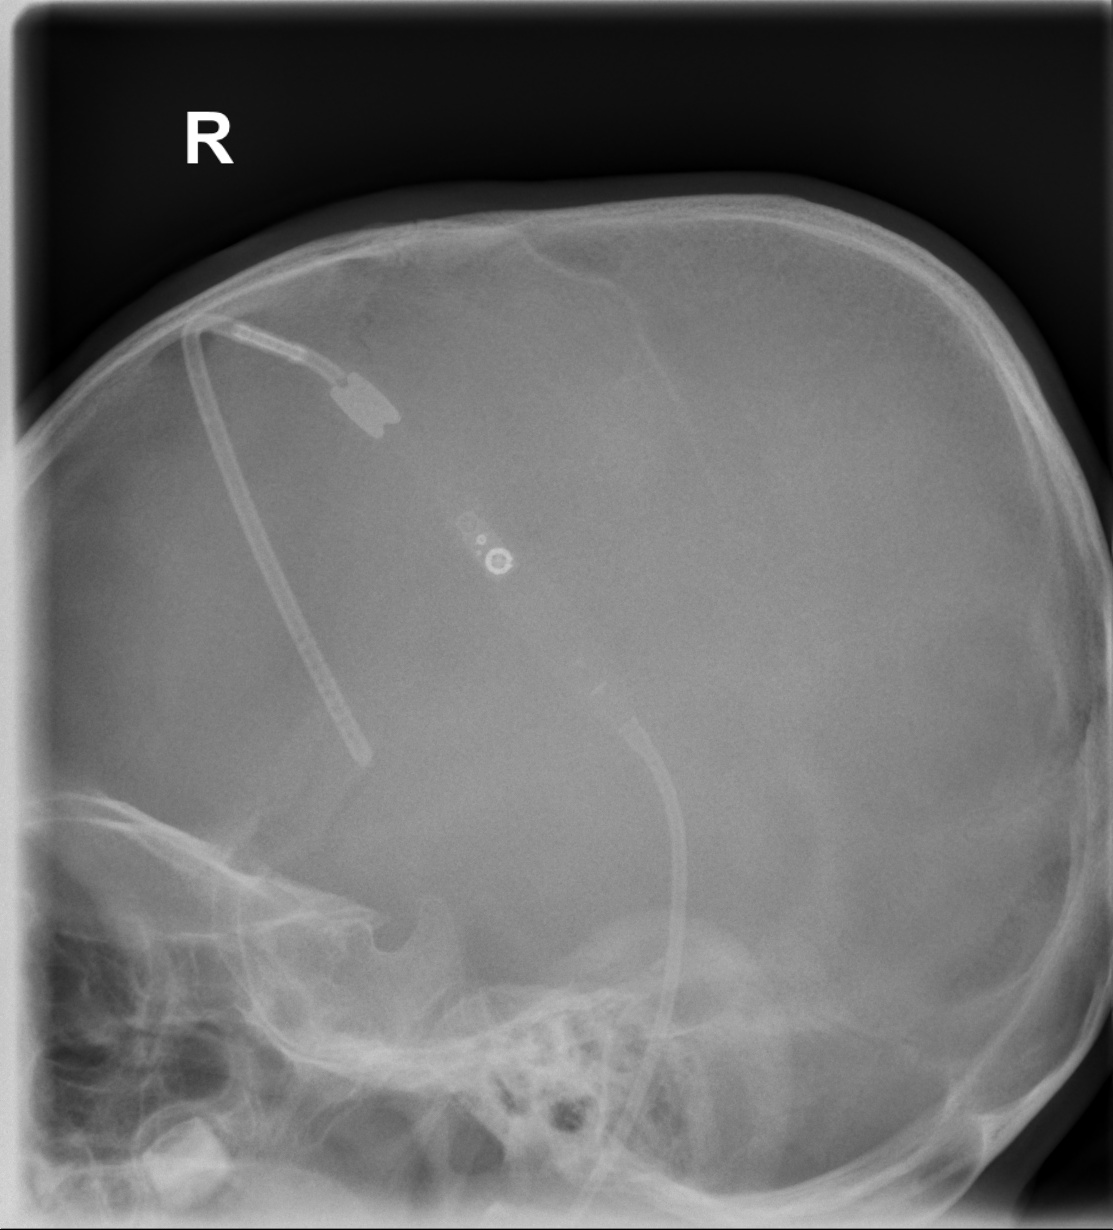Codman Hakim: (460, 520, 522, 588)
